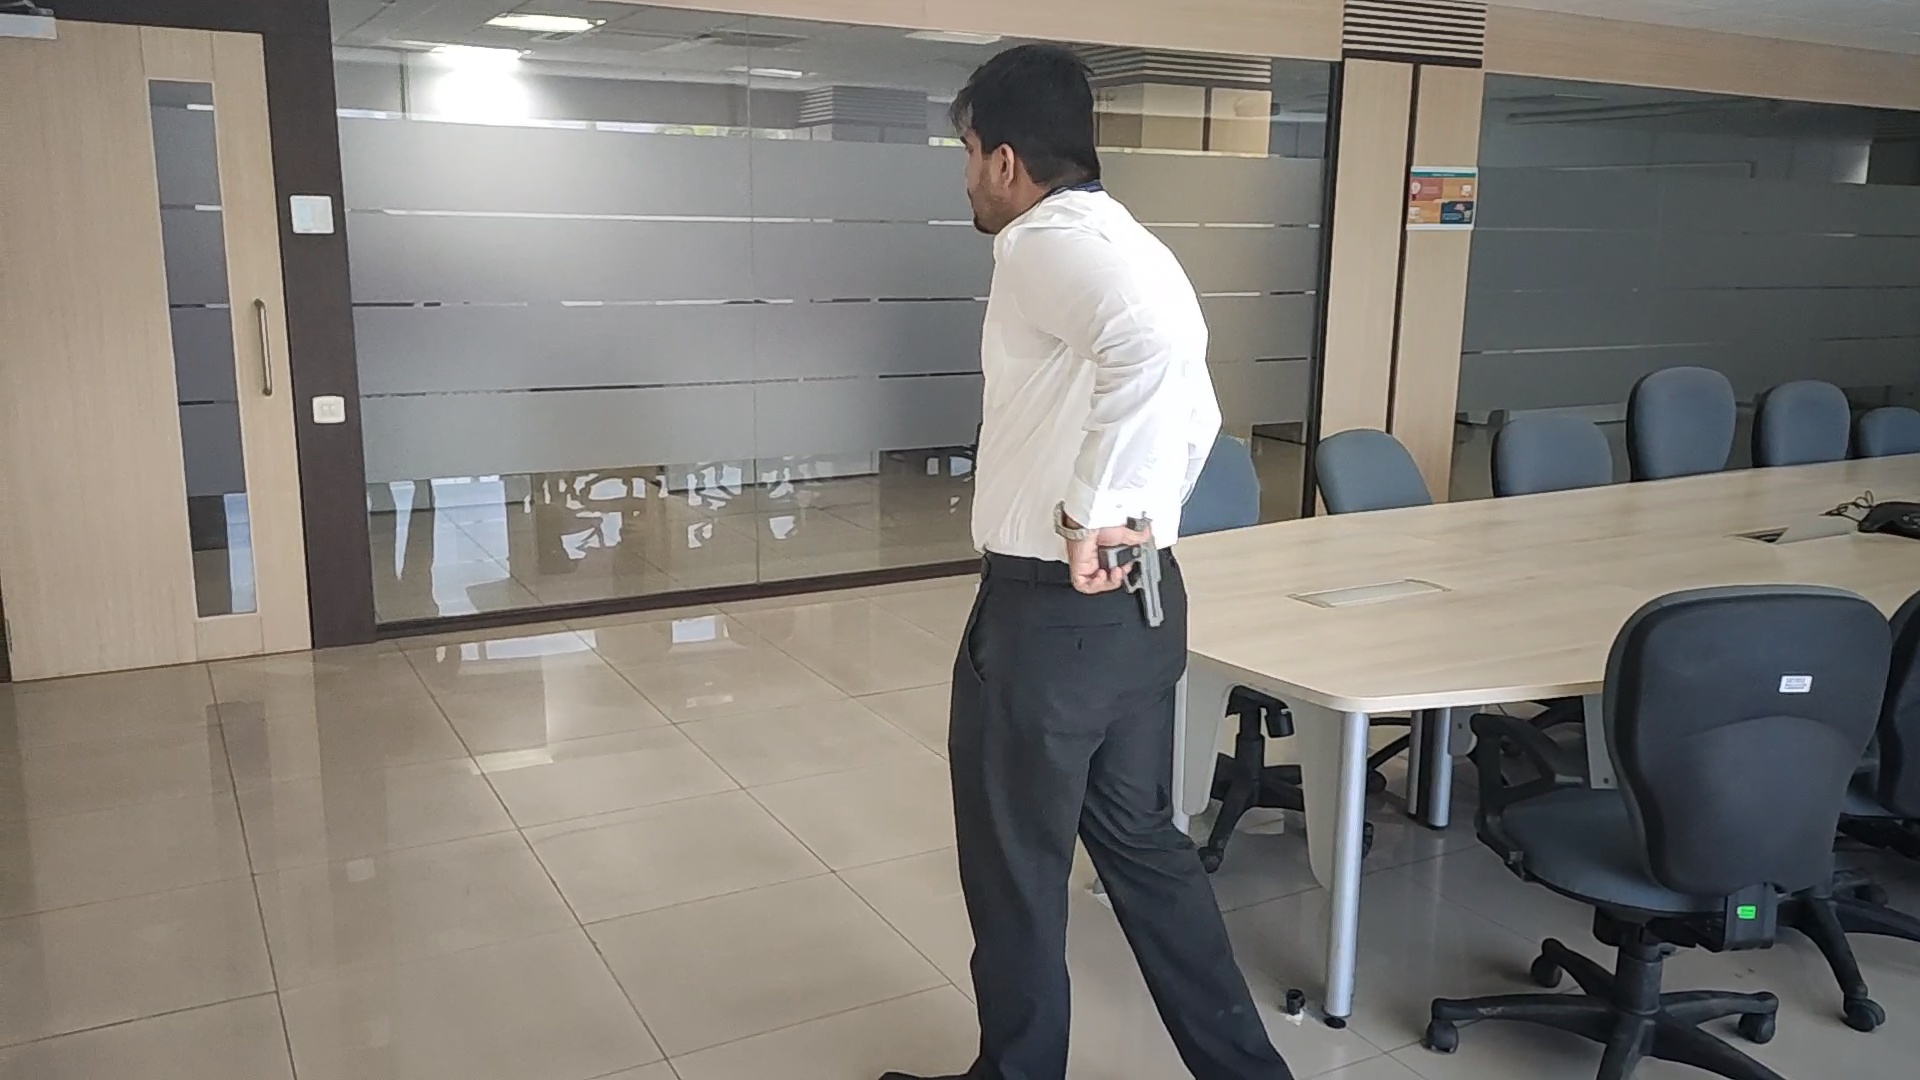gun: (1114, 516, 1164, 629)
